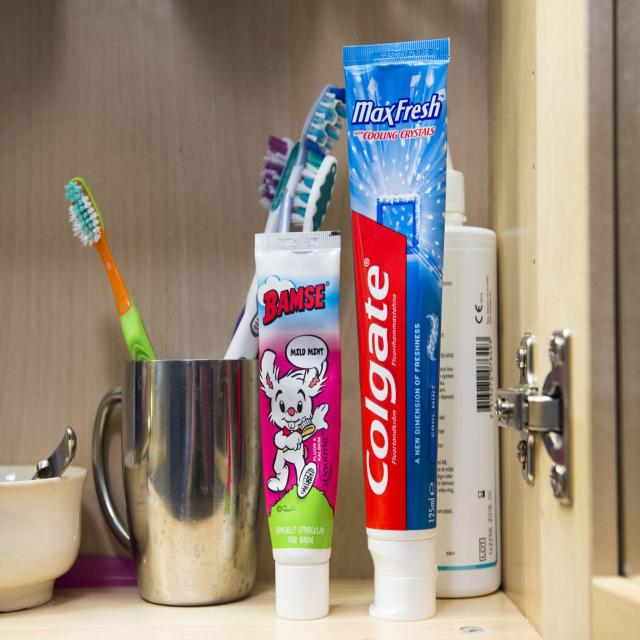Toothpaste: (336, 22, 461, 630), (248, 217, 360, 624)
